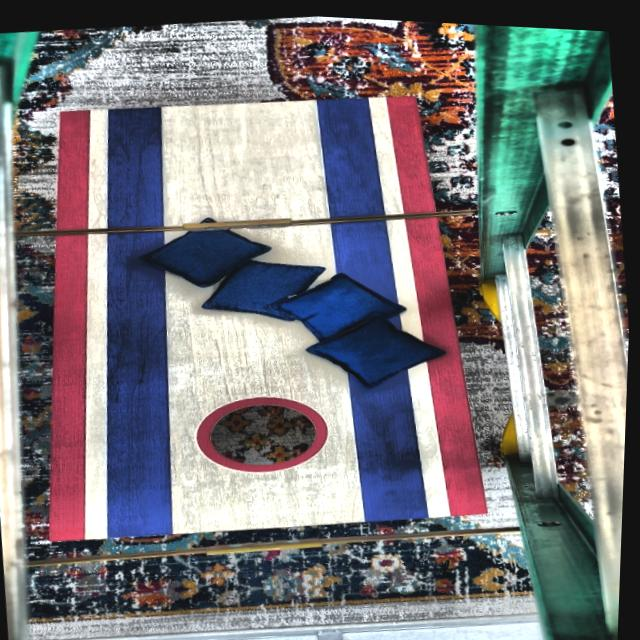blue-bean-bag: (306, 297, 450, 393), (132, 203, 277, 293), (269, 258, 413, 346), (185, 230, 314, 312)
board: (50, 77, 459, 548)
hole: (193, 383, 335, 476)
